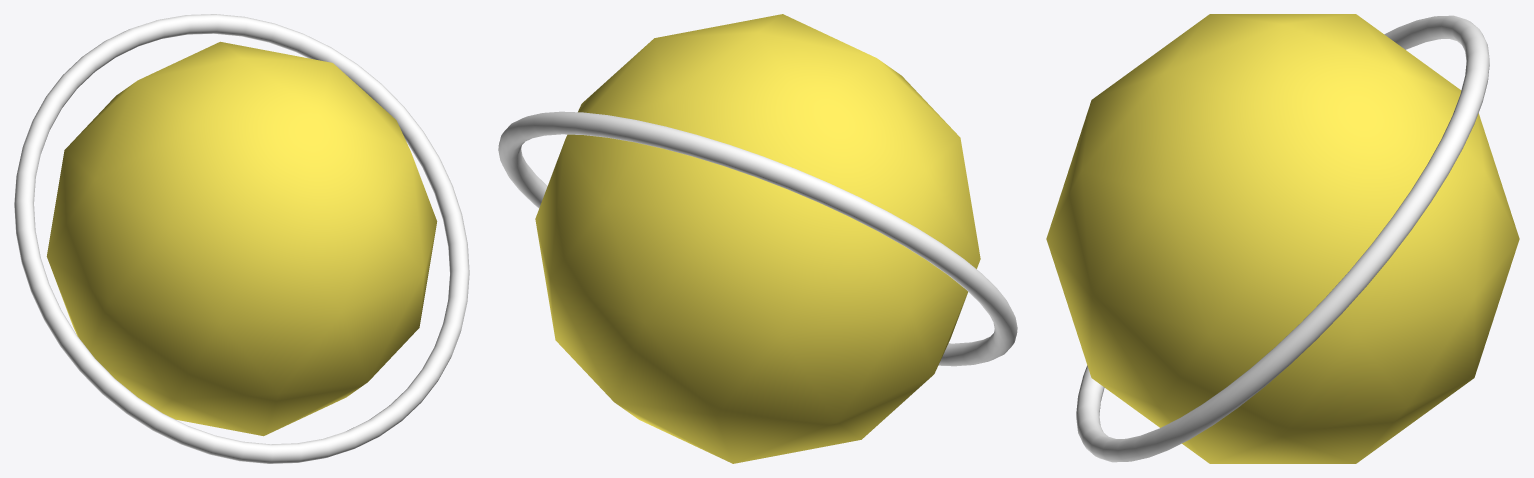
File: mesh_powerup_multiplier.fbx
The picture shows the model from 3 angles, left to right: view 1: azimuth 30°, elevation 25°; view 2: azimuth 150°, elevation 25°; view 3: azimuth 270°, elevation 25°; orthographic projection. The views are drawn at different scales.
Parts seen in each view (by area): view 1: mesh_powerup_multiplier; view 2: mesh_powerup_multiplier; view 3: mesh_powerup_multiplier.
Part boxes in pixels (x1,y1,x2,y2): mesh_powerup_multiplier: (14, 14, 469, 463); mesh_powerup_multiplier: (498, 14, 1017, 463); mesh_powerup_multiplier: (1046, 14, 1519, 463).
Size of the model in its own units: 0.73 by 0.6 by 0.6.
